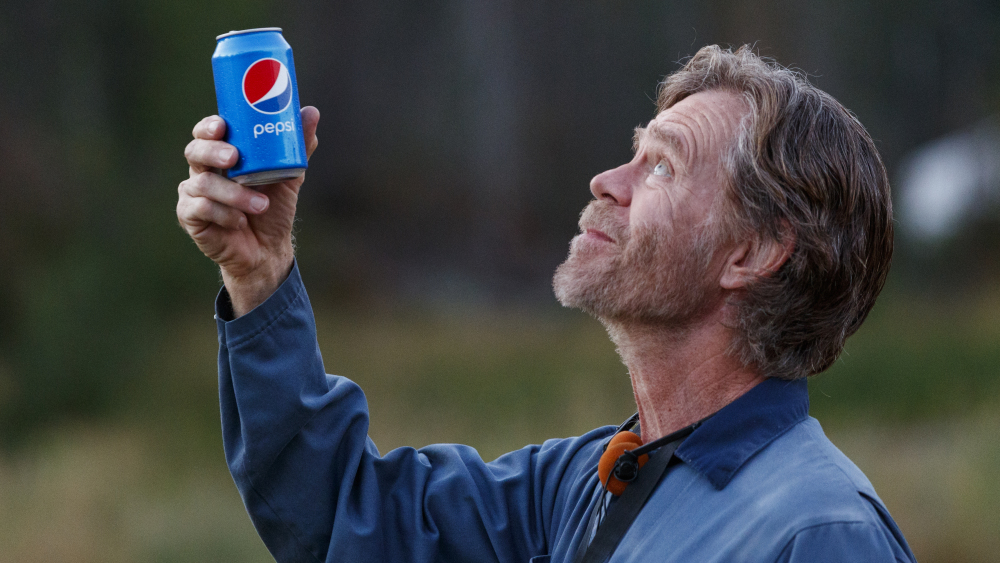pepsi: (239, 54, 291, 113)
